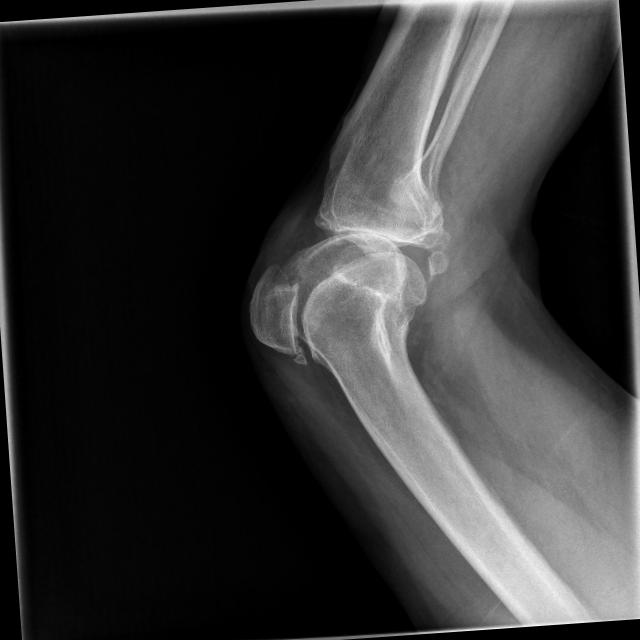Knee: (237, 164, 459, 376)
